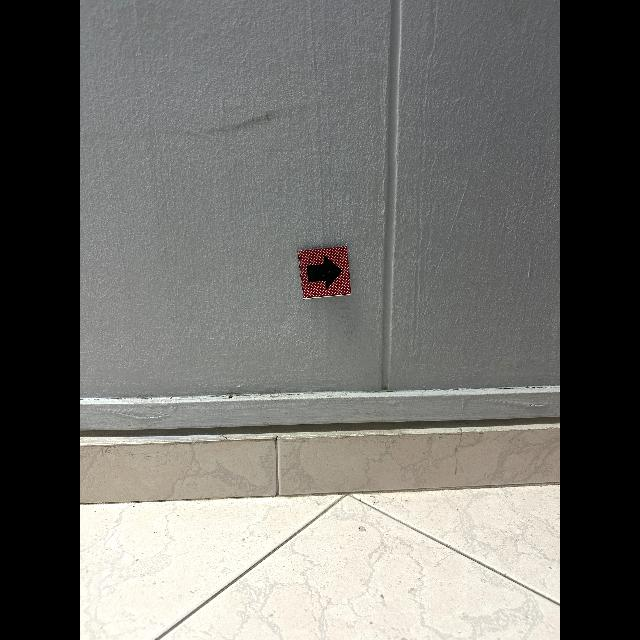RIGHT: (307, 255, 342, 289)
